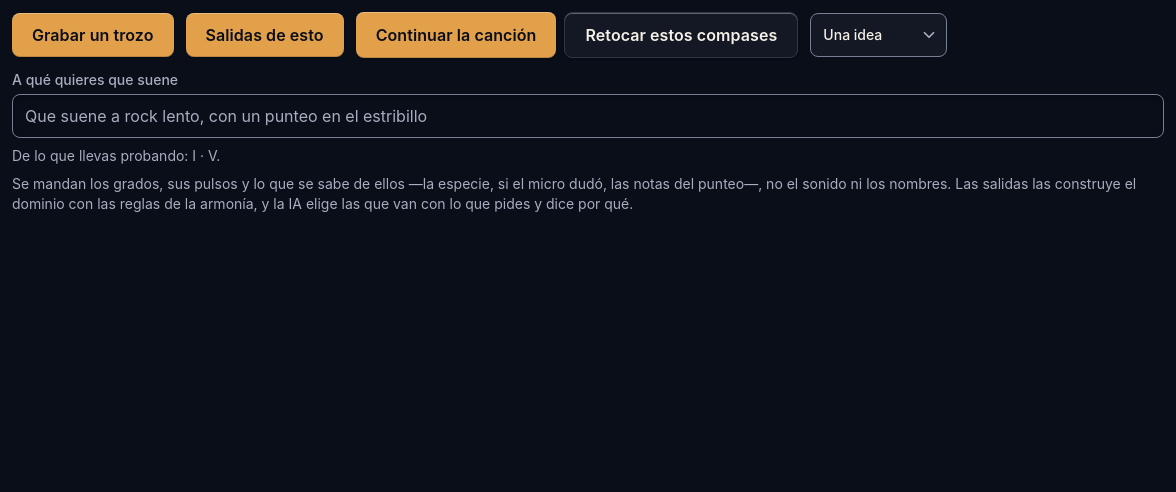
Test: lo que se enseña › si no se pudo hablar con el modelo, dice que esperes un minuto
The image size is (1176, 492).
Click the button "Salidas de esto" at (265, 35), box [186,13,344,57]
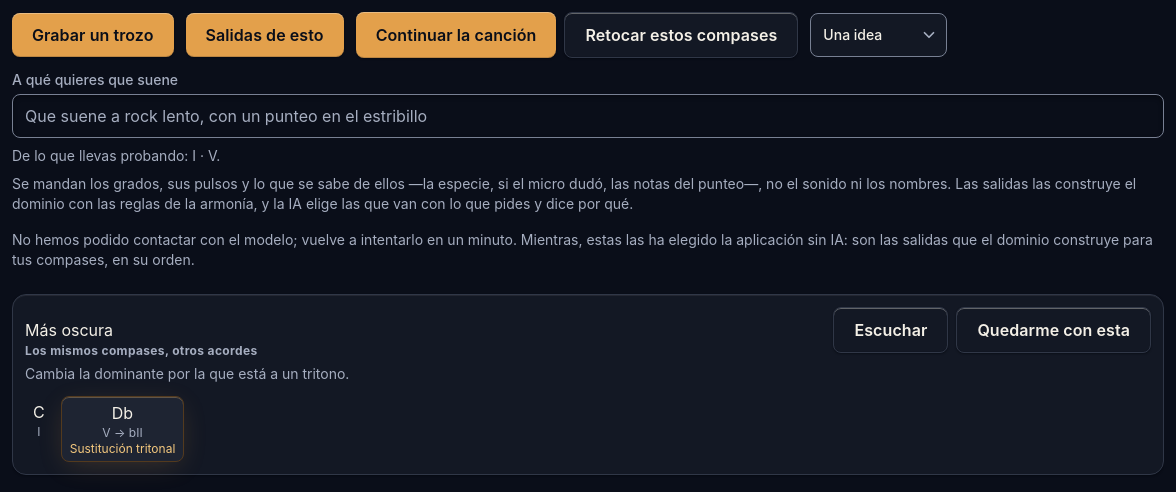
Check: the text "No hemos podido contactar con el modelo; vuelve a intentarlo" shows "sin IA", box [12,231,1153,268]
